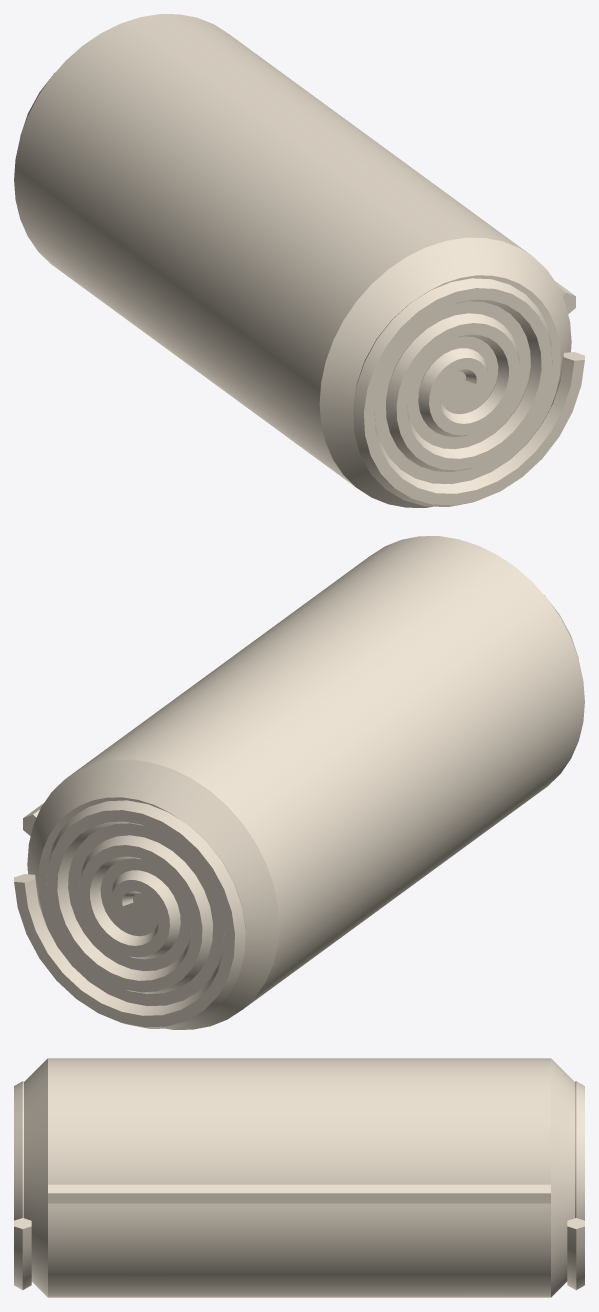
File: JAC_19_Toalha_Enrolada.glb
The picture shows the model from 3 angles, top to bottom: view 1: azimuth 30°, elevation 25°; view 2: azimuth 150°, elevation 25°; view 3: azimuth 270°, elevation 25°; orthographic projection. The views are drawn at different scales.
Parts seen in each view (by area): view 1: JAC_19_Toalha_Enrolada; view 2: JAC_19_Toalha_Enrolada; view 3: JAC_19_Toalha_Enrolada.
Part boxes in pixels (x1,y1,x2,y2): JAC_19_Toalha_Enrolada: [14, 14, 584, 507]; JAC_19_Toalha_Enrolada: [14, 536, 584, 1029]; JAC_19_Toalha_Enrolada: [14, 1058, 584, 1297].
Size of the model in its own units: 0.2033 by 0.2 by 0.4767.
